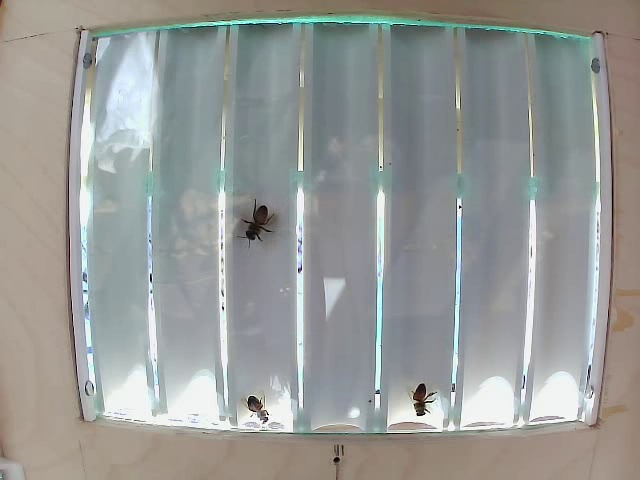bee: (238, 189, 286, 249)
